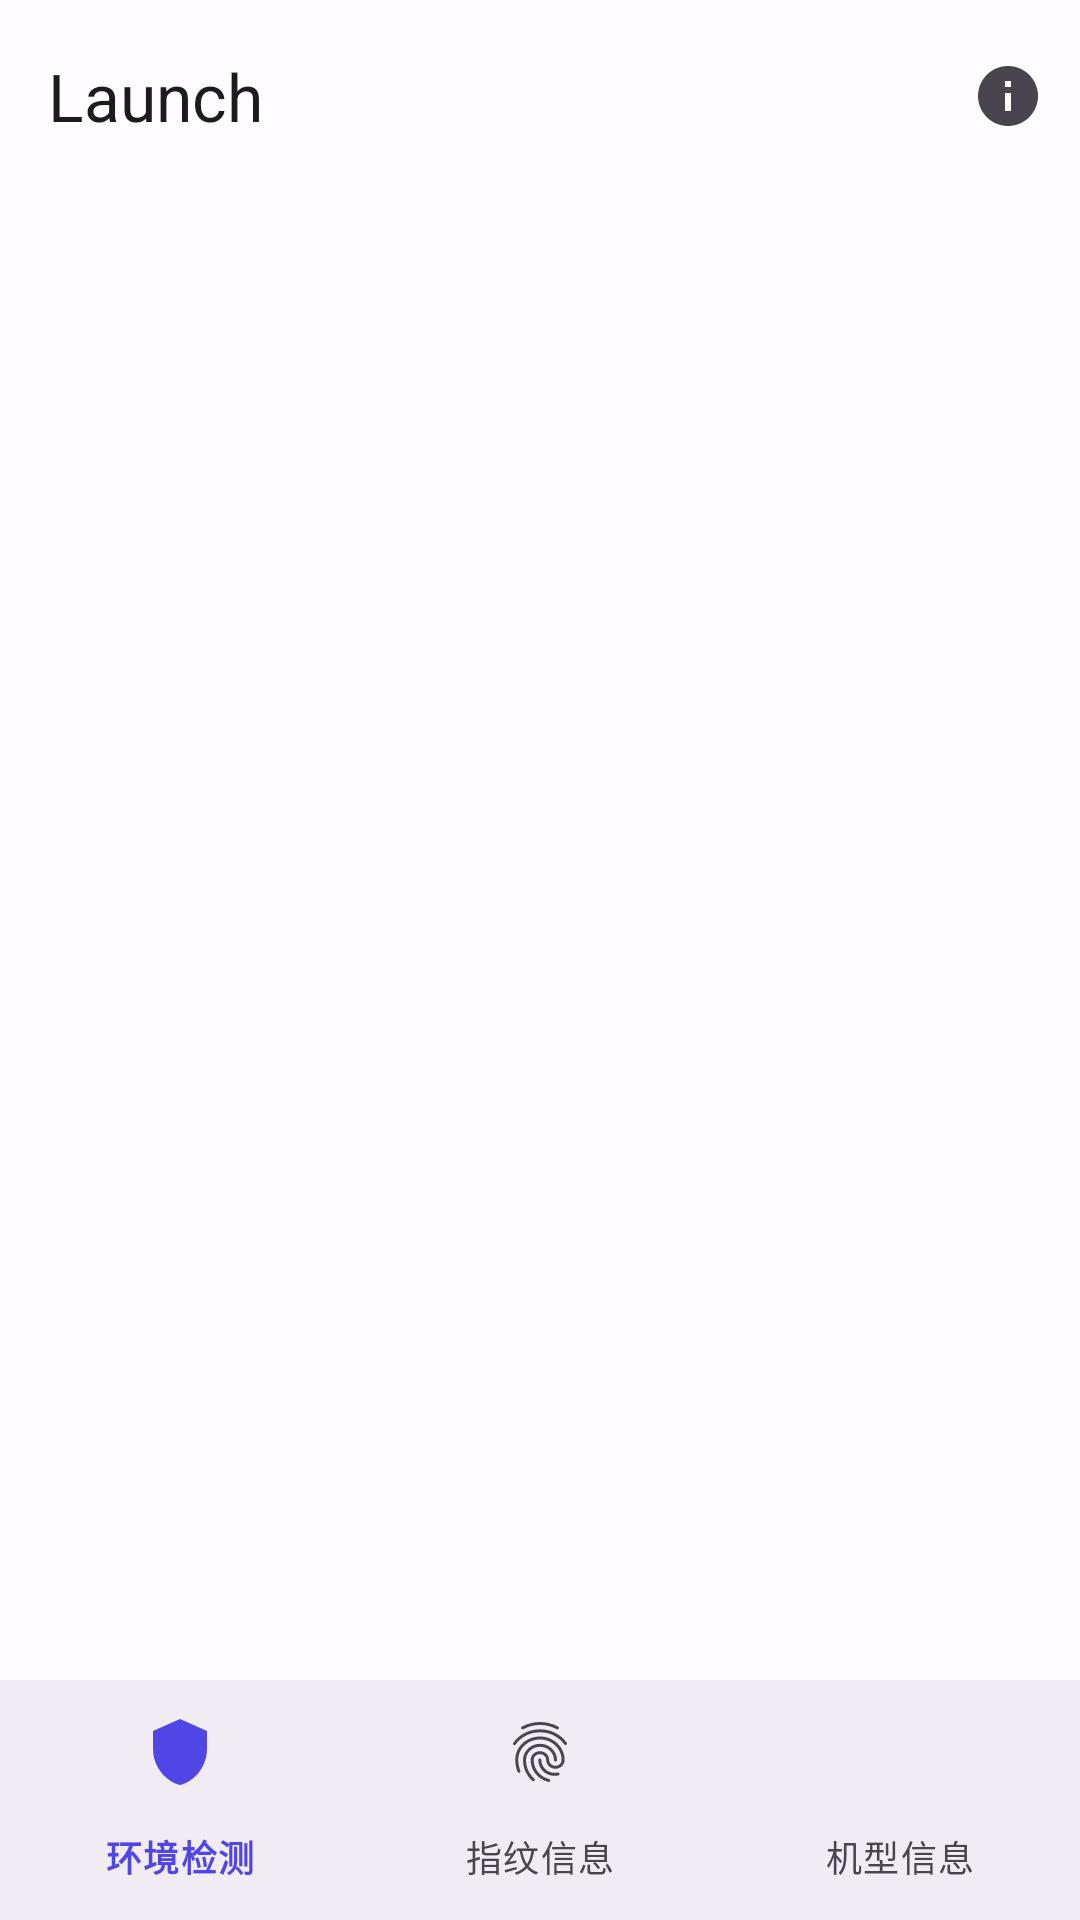

Named icons in this screenshot (1080×1920) and their centers, (x,y):
关于: (1008,96)
